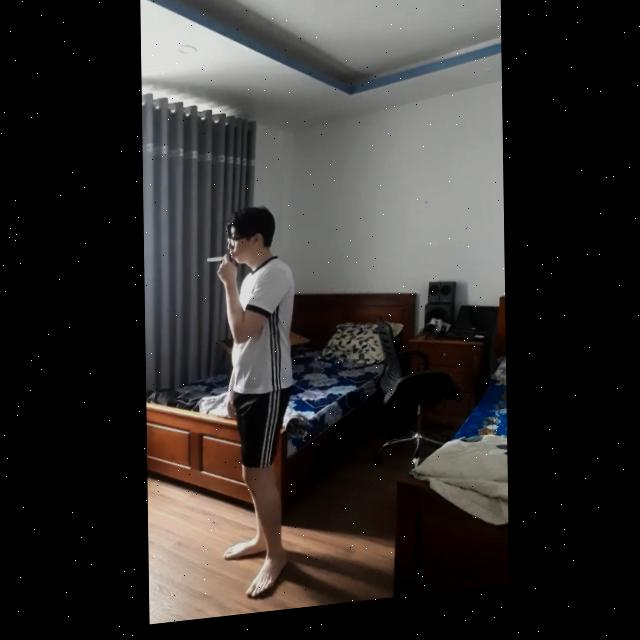cigarette: (206, 260, 226, 268)
